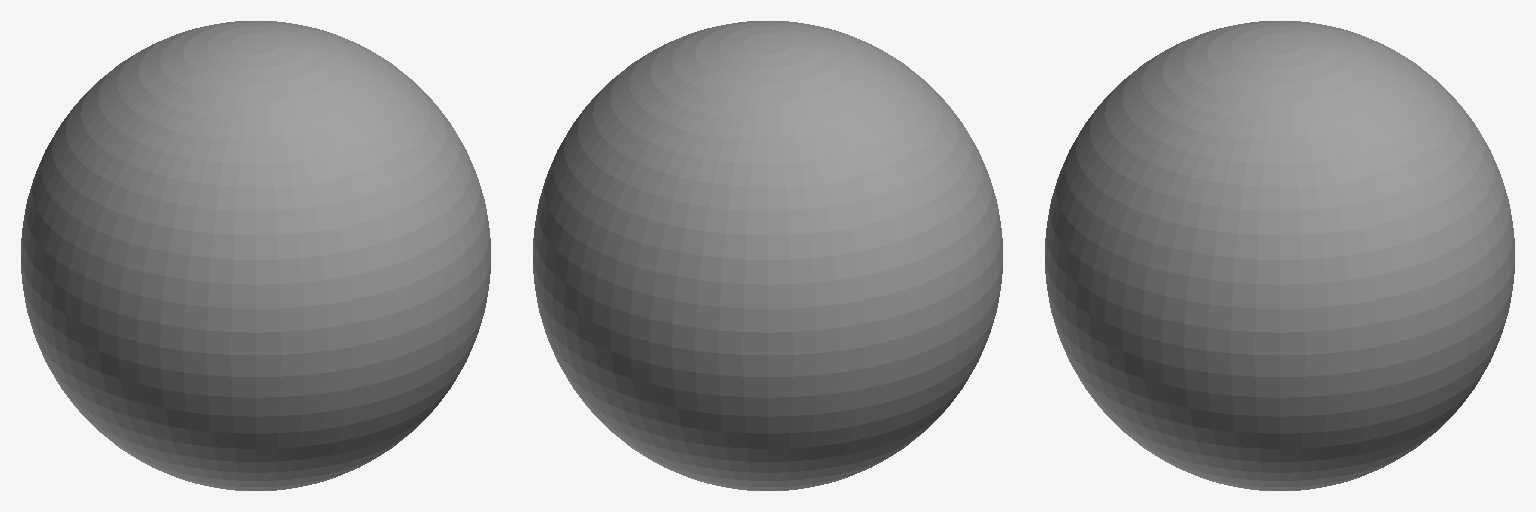
Rendered from sun.obj.
The picture shows the model from 3 angles: view 1: azimuth 30°, elevation 25°; view 2: azimuth 150°, elevation 25°; view 3: azimuth 270°, elevation 25°; orthographic projection.
Parts seen in each view (by area): view 1: Esfera; view 2: Esfera; view 3: Esfera.
Boxes of the visible parts, <box> form: Esfera: <box>21,21,490,490</box>; Esfera: <box>533,21,1002,490</box>; Esfera: <box>1045,21,1514,490</box>.
Bounding box in the file's own units: 40000 × 40000 × 40000.